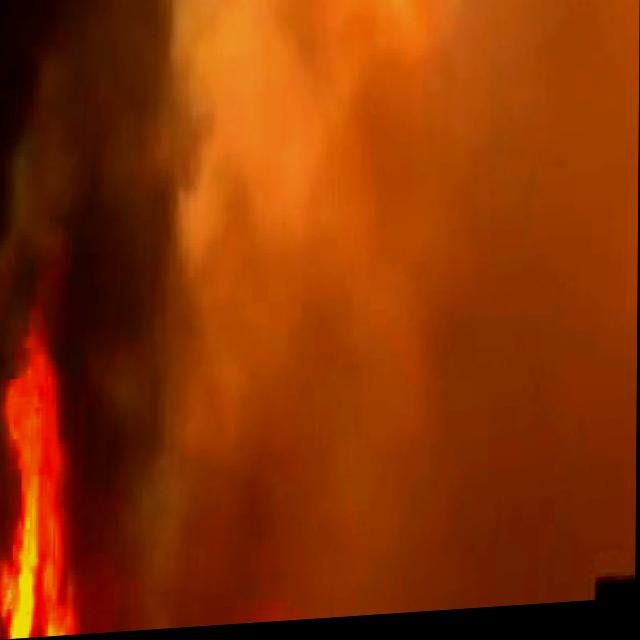fire: (0, 354, 206, 640)
smoke: (0, 0, 530, 346)
